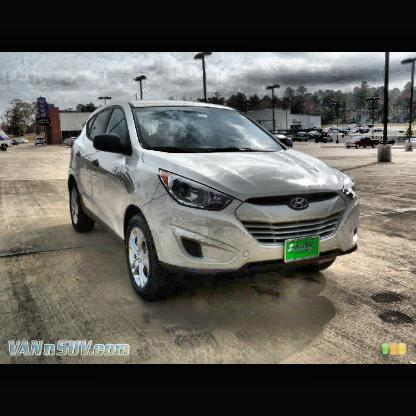Hyundai Tucson SUV 2012: (68, 102, 361, 297)
